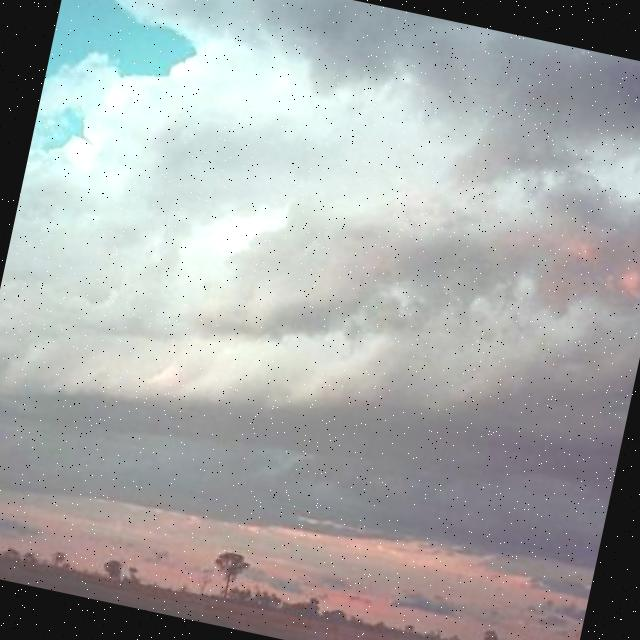St: (1, 1, 640, 543)
